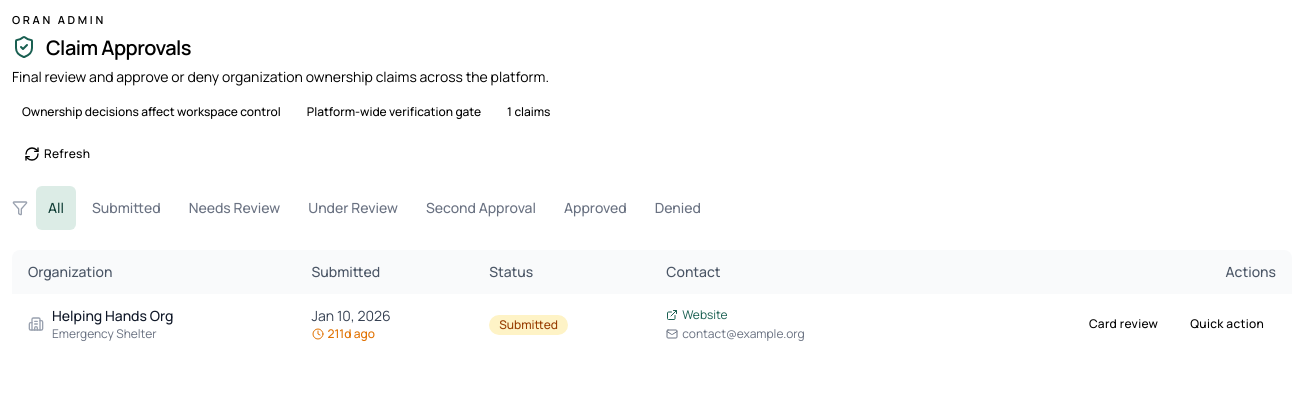
Test: oran admin approvals page › loads claims and applies status tab filters
The width and height of the screenshot is (1292, 415).
Expected: the text "Helping Hands Org" is shown, [52,306,173,326]
What coordinates should you click on to do the following:
click the tab "Denied"
I would click on:
 (678, 208)
Its box is [643,186,713,230].
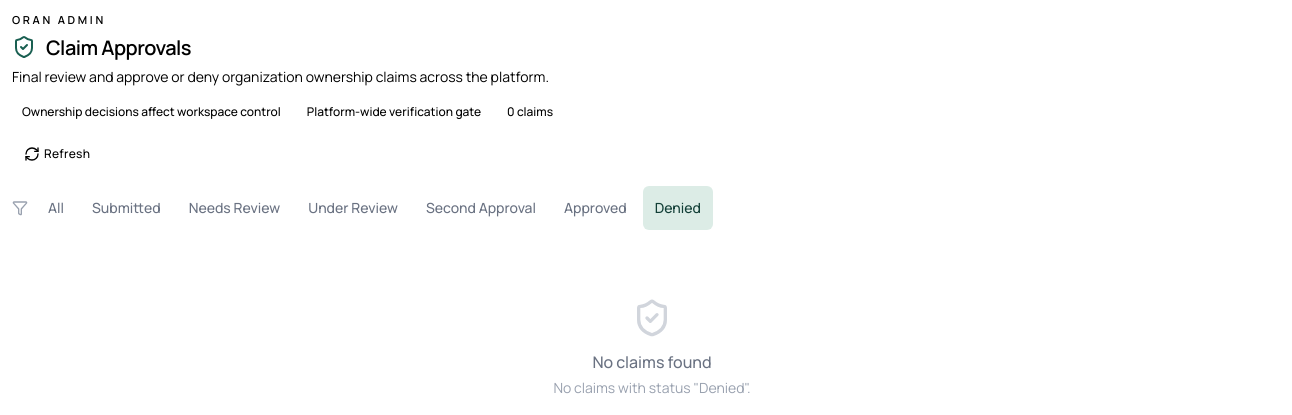
Expected: the text "No claims found" is shown, [592,350,712,374]
Expected: the text "No claims with status \"Denied\"." is shown, [553,378,750,398]
